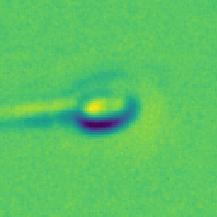normal: (1, 98, 75, 134)
